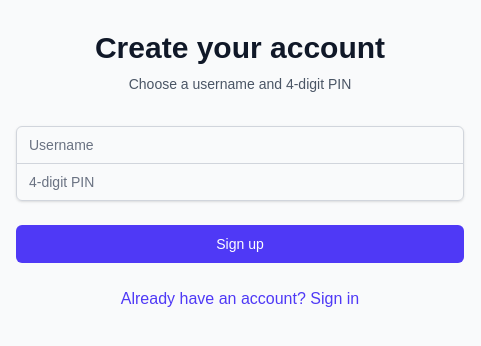
Test: SignUpPage › should handle network errors
This screenshot has width=481, height=346.
Type "testuser" into the field with placeholder "Username".
click(240, 144); type("testuser")  # box [16,126,464,164]
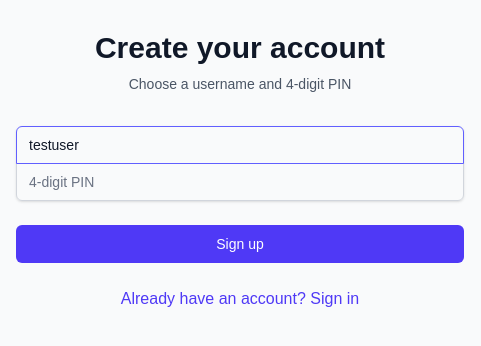
Type "1234" into the password field with placeholder "4-digit PIN".
click(240, 182); type("1234")  # box [16,162,464,200]
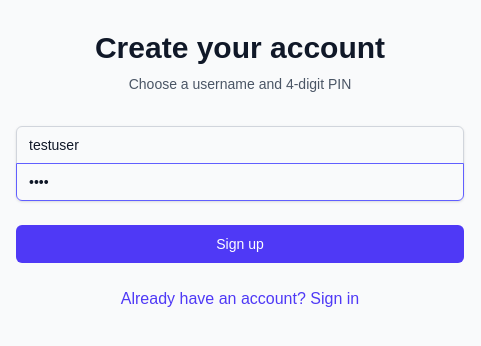
Click the button "Sign up".
click(240, 244)  # box [16,224,464,262]
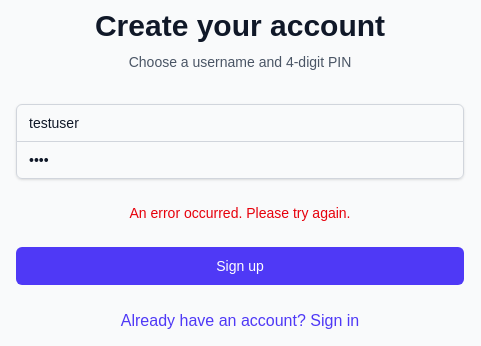
Expected: the text "An error occurred. Please try again." is shown, [130,204,350,220]
